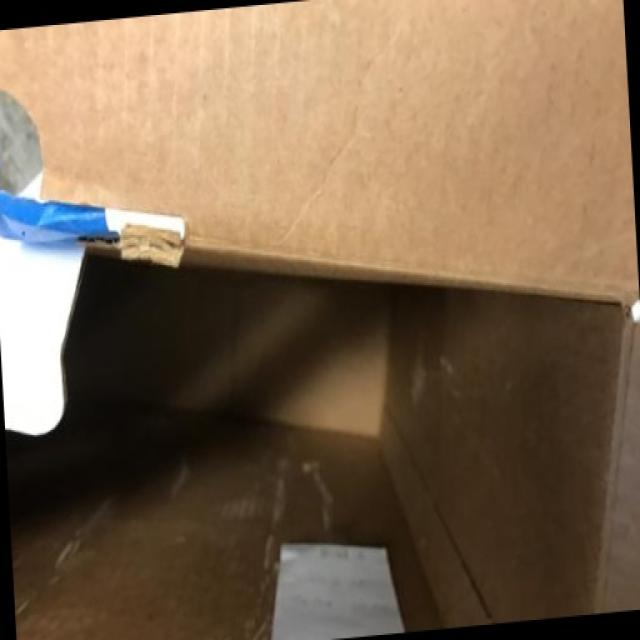carton: (15, 19, 640, 634)
